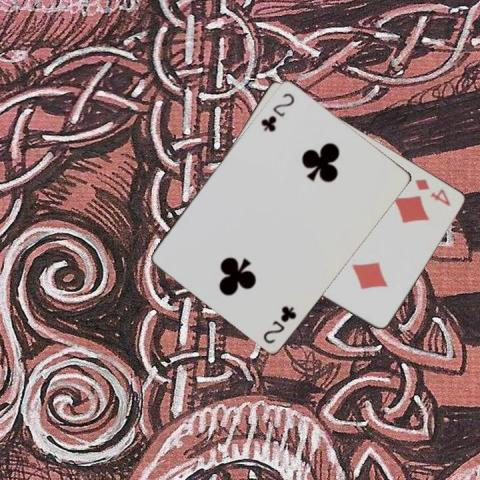2c: (257, 90, 296, 134), (260, 302, 298, 345)
4d: (411, 175, 452, 208)
